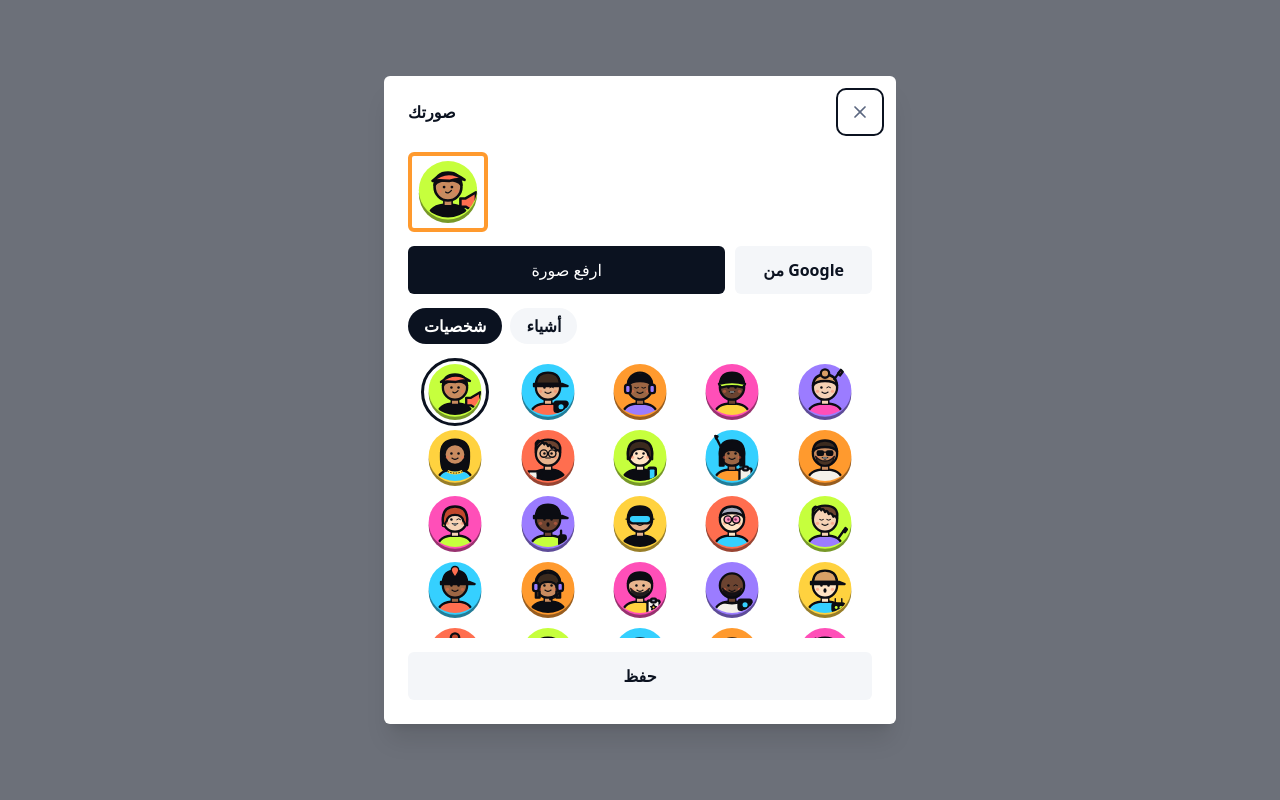
the library (AVA-10, AVA-11) › the chips switch the set the one grid shows
Click the button "أشياء" at [544, 326], box x1=510 y1=308 x2=578 y2=344
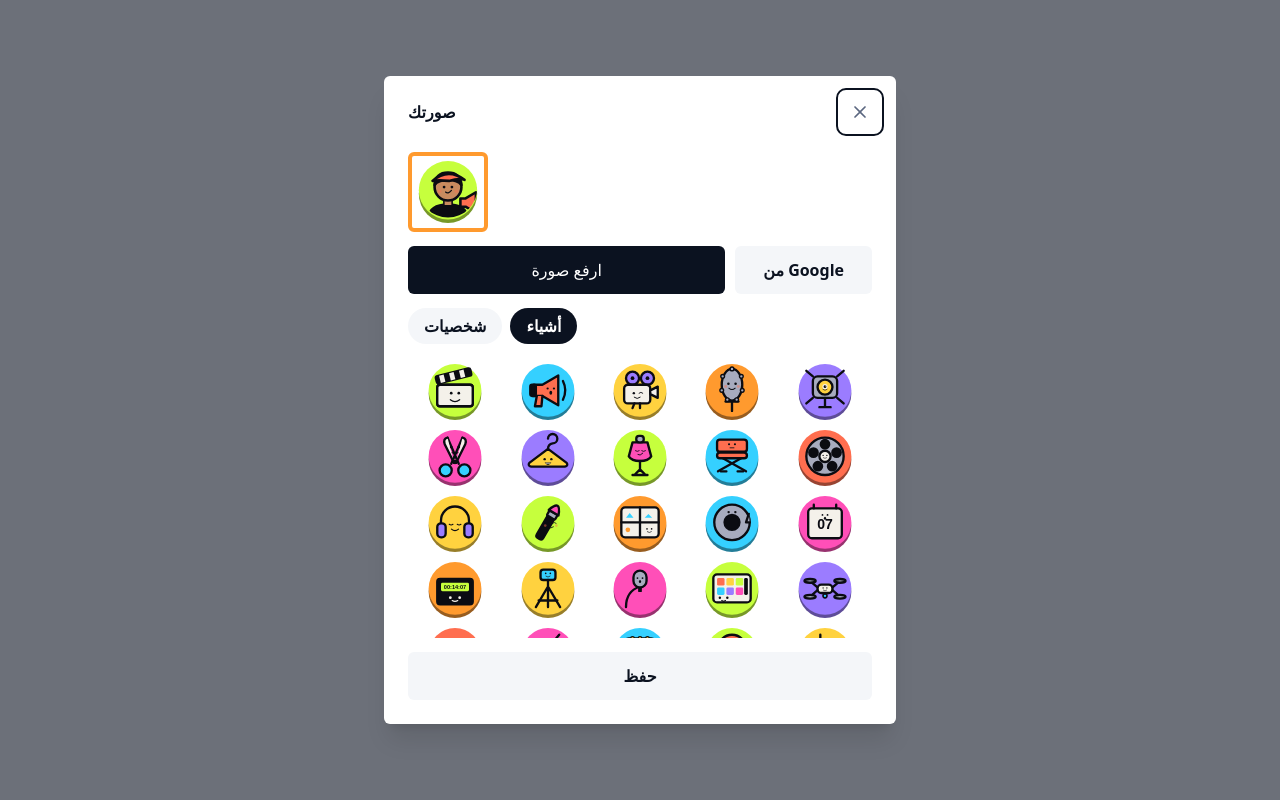
Check: the button named "الكلاكيت" is shown, box x1=427 y1=364 x2=483 y2=420
Check: the button "المخرج" is gone
